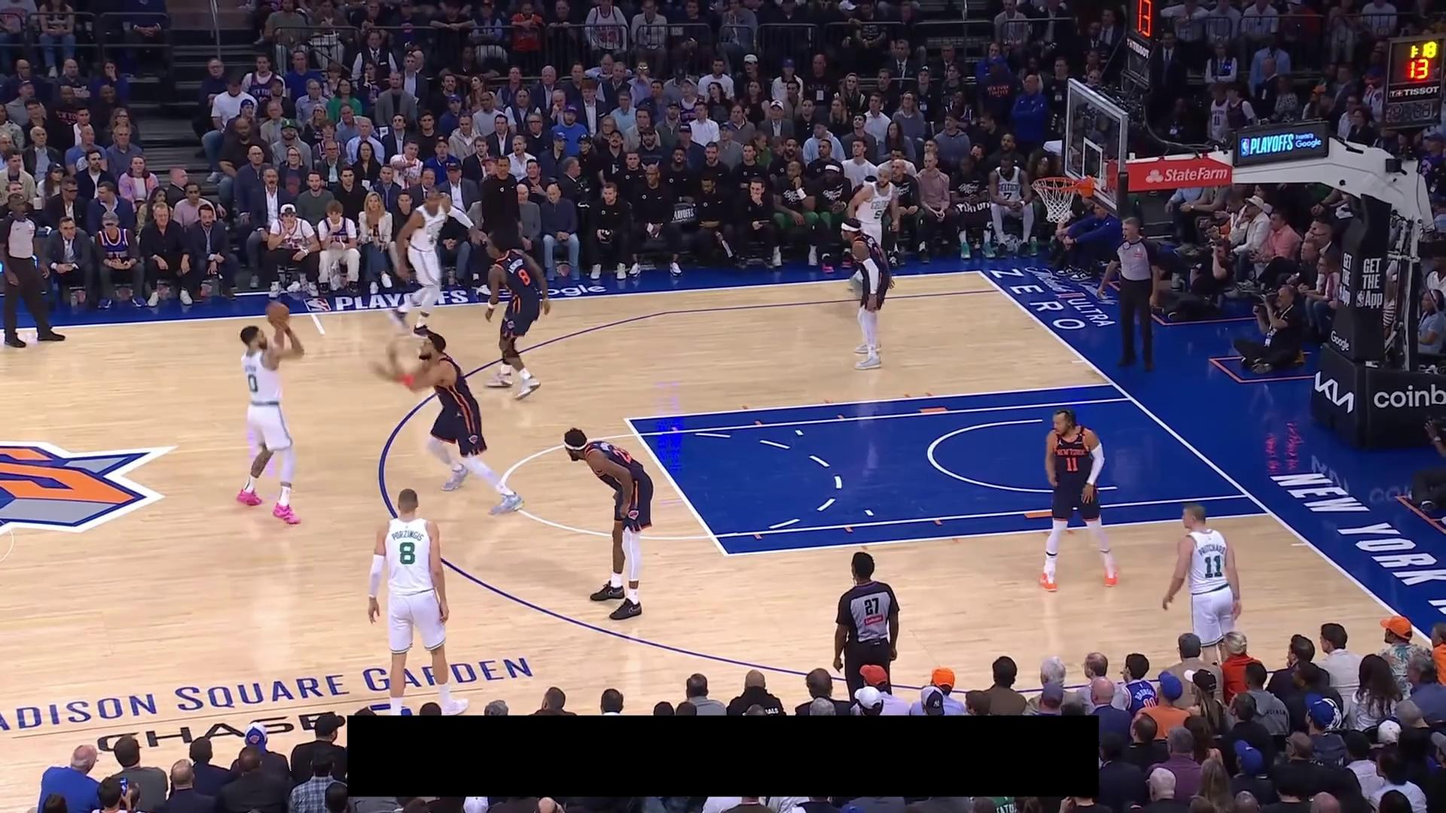ball: (266, 300, 291, 326)
number: (398, 541, 416, 565), (1204, 555, 1222, 578), (1065, 455, 1079, 473), (247, 373, 259, 393), (517, 269, 531, 286), (873, 208, 883, 221)
player: (373, 331, 527, 517), (365, 488, 470, 717), (561, 425, 658, 621), (1036, 405, 1121, 595), (1156, 500, 1246, 669), (387, 184, 483, 340), (482, 231, 552, 402), (840, 217, 897, 372), (841, 163, 901, 296)
player-in-possession: (236, 299, 307, 526)
referee: (0, 192, 67, 348), (1097, 215, 1162, 373), (833, 550, 900, 703)
rim: (1033, 175, 1079, 191)
